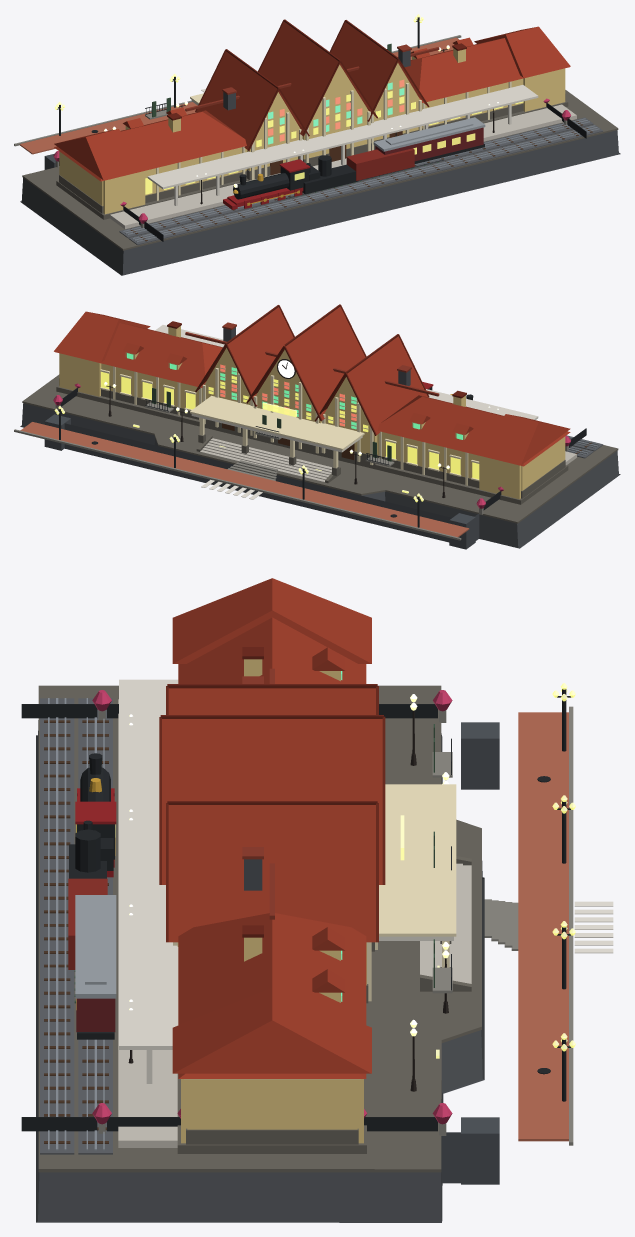
File: lm_02_ga_da_lat.glb
3 views of the same model, one above another, from view 1: azimuth 30°, elevation 25°; view 2: azimuth 150°, elevation 25°; view 3: azimuth 270°, elevation 25° (orthographic). The views are drawn at different scales.
Parts seen in each view (by area): view 1: Station_Langbiang_3Peaks_Roof, Foundation_Skirt, Station_Walls_Ochre_Cream, Station_PorteCochere_And_Canopy, Railway_Ballast_Bed, Foundation_Plinth_Trim, Railway_Steel_Cog_Rails, Station_Forecourt_And_Platform, Station_Stone_Plinth_Base, Phase2_WroughtIron_Balconies_Railings_Manholes, Station_Roof_Ridges_Trim, Station_ArtDeco_Pilasters_Trim (+14 smaller); view 2: Station_Langbiang_3Peaks_Roof, Station_Walls_Ochre_Cream, Foundation_Plinth_Trim, Station_ArtDeco_Pilasters_Trim, Foundation_Skirt, Phase2_Foundation_Skirt_Minus3p5m, Phase2_Interlocking_Brick_Sidewalk, Station_Stone_Plinth_Base, Phase2_Granite_Curb_And_Entry_Steps, Station_Roof_Ridges_Trim, Station_StainedGlass_Amber, Front_Entrance_Steps (+8 smaller); view 3: Station_Langbiang_3Peaks_Roof, Foundation_Plinth_Trim, Foundation_Skirt, Phase2_Interlocking_Brick_Sidewalk, Station_PorteCochere_And_Canopy, Railway_Ballast_Bed, Station_ArtDeco_Pilasters_Trim, Station_Walls_Ochre_Cream, Phase2_WroughtIron_Balconies_Railings_Manholes, Phase2_Foundation_Skirt_Minus3p5m, Station_Roof_Ridges_Trim, Station_Forecourt_And_Platform (+14 smaller).
Boxes of the visible parts, x1,y1,x2,y2 form: Station_Langbiang_3Peaks_Roof: [54, 21, 570, 181]; Foundation_Skirt: [20, 130, 620, 275]; Station_Walls_Ochre_Cream: [59, 48, 565, 214]; Station_PorteCochere_And_Canopy: [147, 85, 538, 205]; Railway_Ballast_Bed: [119, 117, 603, 245]; Foundation_Plinth_Trim: [22, 90, 618, 250]; Railway_Steel_Cog_Rails: [123, 118, 599, 242]; Station_Forecourt_And_Platform: [110, 104, 576, 228]; Station_Stone_Plinth_Base: [56, 93, 568, 219]; Phase2_WroughtIron_Balconies_Railings_Manholes: [57, 17, 586, 241]; Station_Roof_Ridges_Trim: [167, 19, 466, 150]; Station_ArtDeco_Pilasters_Trim: [156, 81, 511, 200]; Station_Langbiang_3Peaks_Roof: [54, 306, 570, 466]; Station_Walls_Ochre_Cream: [59, 326, 565, 499]; Foundation_Plinth_Trim: [22, 374, 618, 523]; Station_ArtDeco_Pilasters_Trim: [100, 366, 479, 485]; Foundation_Skirt: [20, 403, 620, 548]; Phase2_Foundation_Skirt_Minus3p5m: [44, 327, 479, 549]; Phase2_Interlocking_Brick_Sidewalk: [20, 422, 469, 537]; Station_Stone_Plinth_Base: [56, 378, 568, 504]; Phase2_Granite_Curb_And_Entry_Steps: [14, 402, 568, 540]; Station_Roof_Ridges_Trim: [167, 304, 466, 435]; Station_StainedGlass_Amber: [101, 371, 479, 479]; Front_Entrance_Steps: [200, 438, 331, 482]; Station_Langbiang_3Peaks_Roof: [162, 578, 382, 1078]; Foundation_Plinth_Trim: [38, 685, 481, 1172]; Foundation_Skirt: [36, 720, 484, 1222]; Phase2_Interlocking_Brick_Sidewalk: [518, 712, 568, 1141]; Station_PorteCochere_And_Canopy: [119, 679, 453, 1083]; Railway_Ballast_Bed: [40, 698, 112, 1154]; Station_ArtDeco_Pilasters_Trim: [173, 784, 456, 1079]; Station_Walls_Ochre_Cream: [177, 659, 366, 1143]; Phase2_WroughtIron_Balconies_Railings_Manholes: [21, 689, 571, 1131]; Phase2_Foundation_Skirt_Minus3p5m: [244, 722, 499, 1184]; Station_Roof_Ridges_Trim: [159, 647, 385, 942]; Station_Forecourt_And_Platform: [118, 699, 177, 1147].
Bounding box in the file's own units: 71.89 × 18.1 × 36.82.
